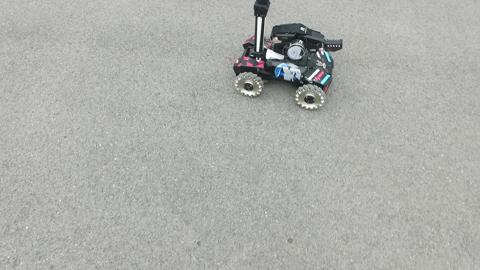chariot: (232, 1, 343, 110)
